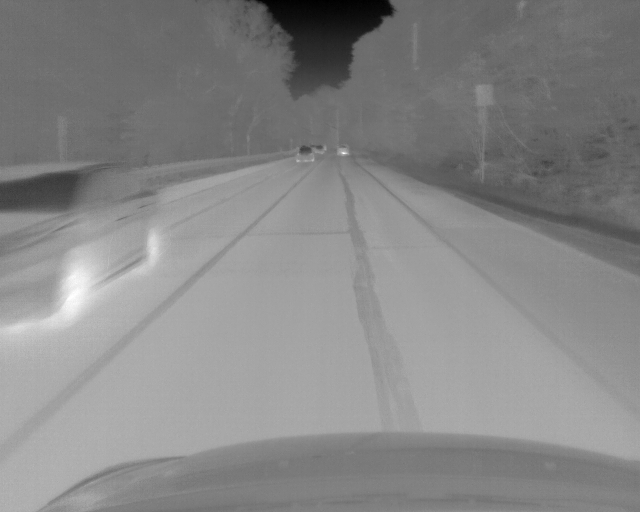car: (1, 160, 165, 329), (296, 145, 314, 164), (337, 143, 349, 158), (314, 143, 327, 155)
